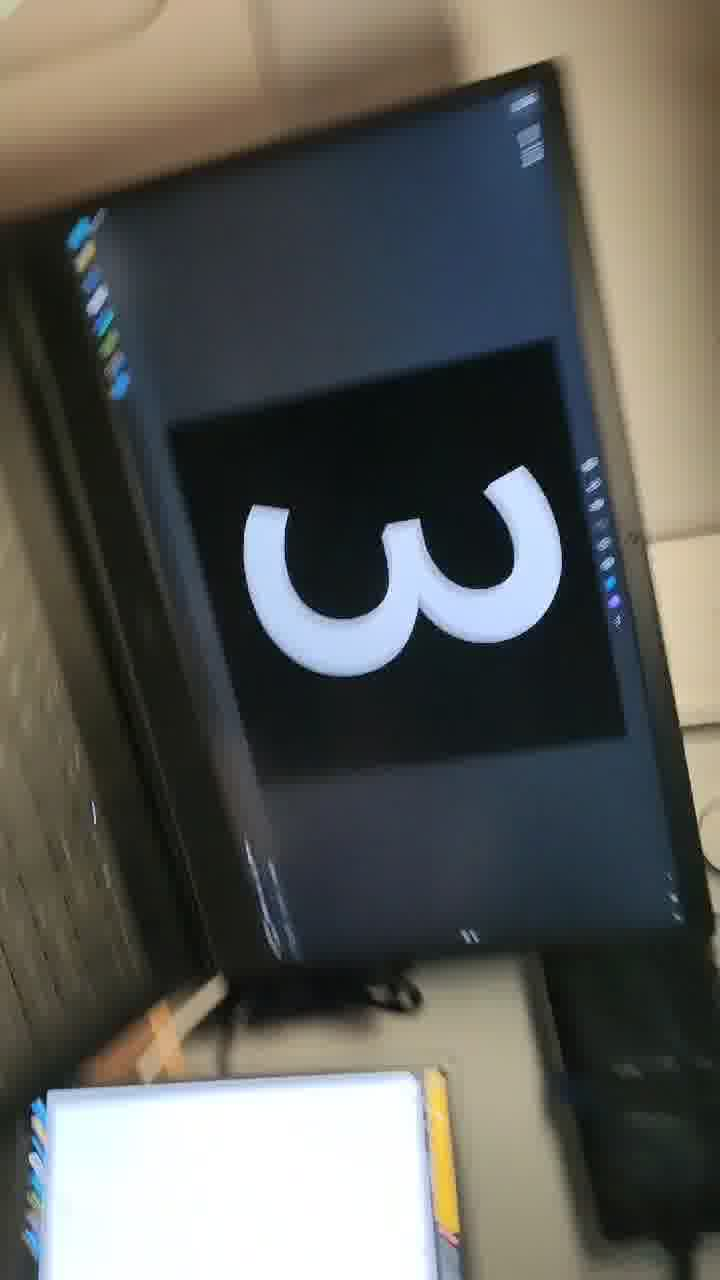three: (218, 447, 607, 799)
